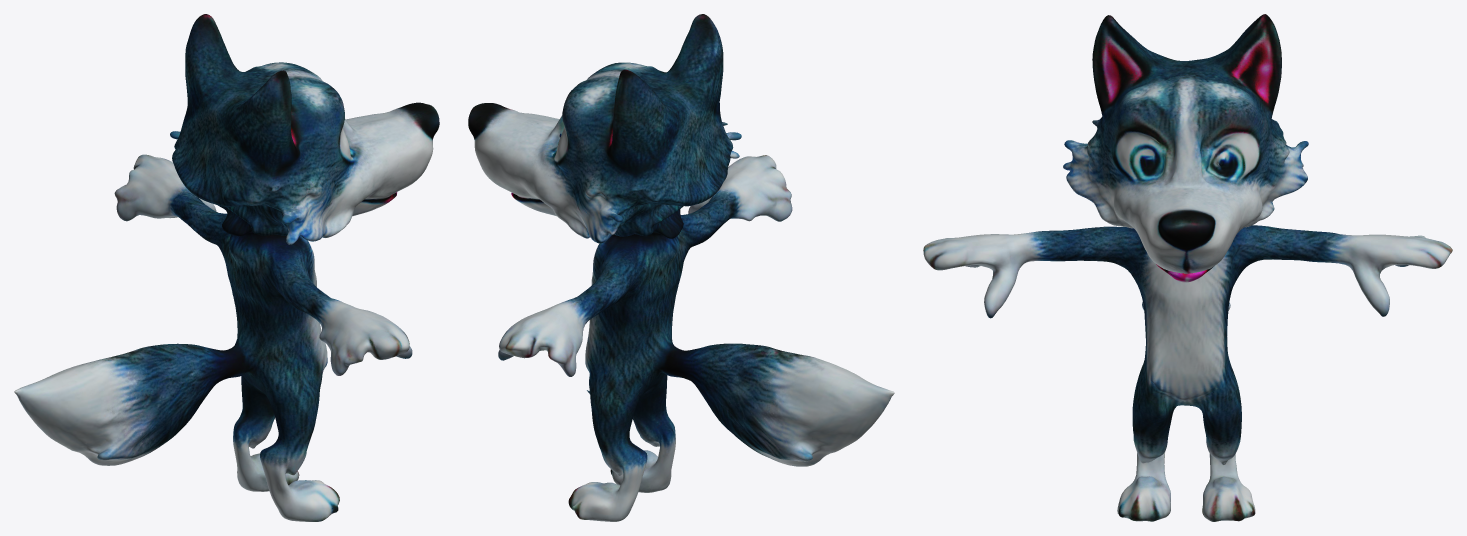
The model's file is cd6aeb568157_cartoon_cute_wolf_m.fbx.
The picture shows the model from 3 angles, left to right: view 1: azimuth 30°, elevation 25°; view 2: azimuth 150°, elevation 25°; view 3: azimuth 270°, elevation 25°; orthographic projection. The views are drawn at different scales.
Visible parts, largest first — view 1: high_poly; view 2: high_poly; view 3: high_poly.
Part boxes in pixels (<box>): high_poly: <box>14,14,439,521</box>; high_poly: <box>468,14,894,521</box>; high_poly: <box>923,14,1452,521</box>.
Bounding box in the file's own units: 93.67 × 99.79 × 100.
